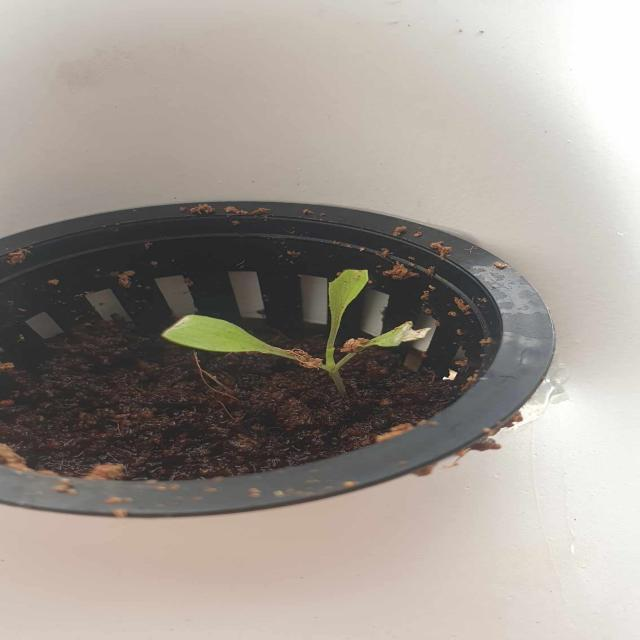Lettuce-Not-Ready-to-Harvest: (166, 263, 425, 385)
